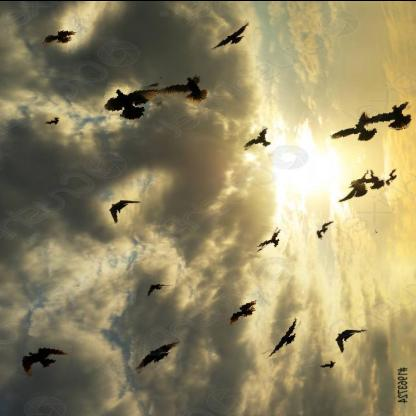bird: (102, 78, 164, 124), (19, 337, 71, 382), (326, 108, 383, 145), (157, 71, 215, 106), (133, 335, 181, 376), (261, 317, 308, 356), (205, 17, 255, 53), (365, 102, 414, 132), (221, 296, 267, 324), (41, 20, 80, 52), (237, 123, 278, 152), (333, 325, 372, 355), (138, 274, 176, 303), (100, 196, 139, 223), (351, 167, 387, 191), (257, 226, 288, 253), (313, 218, 339, 240), (42, 113, 71, 131), (386, 168, 405, 187), (319, 356, 343, 370)
